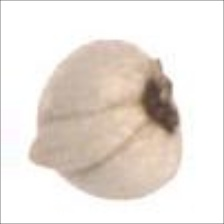L5: (25, 99, 155, 178), (140, 57, 183, 138), (27, 133, 53, 170)
L6: (23, 37, 186, 202)
